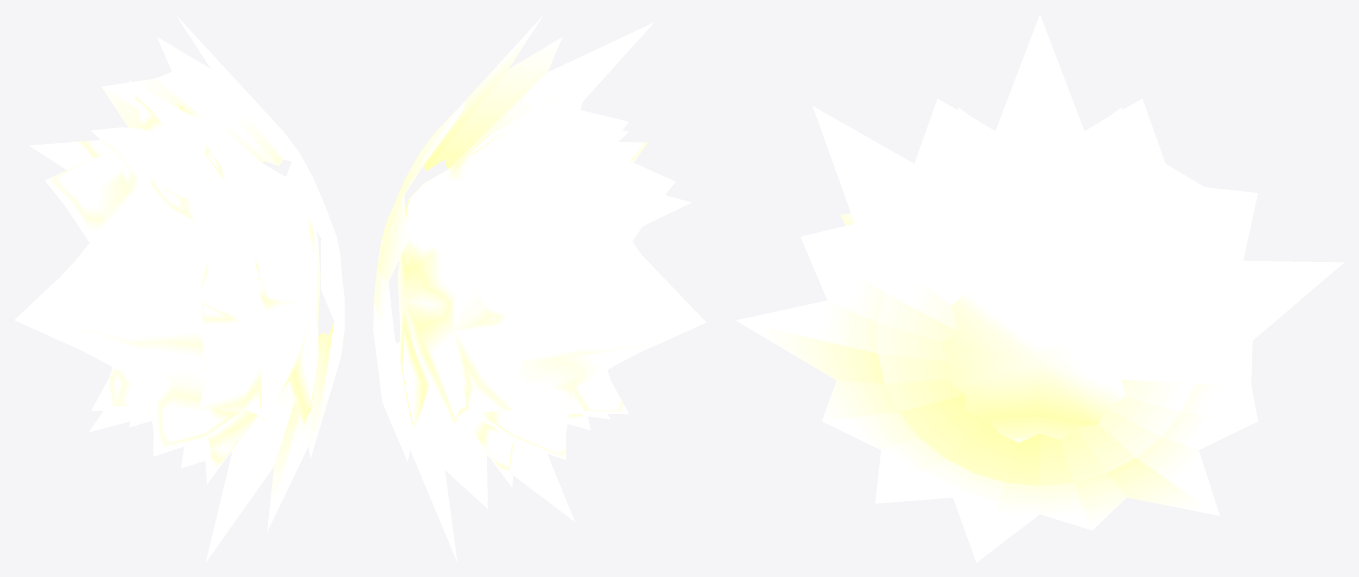
The model's file is attack_hi.fbx.
The picture shows the model from 3 angles, left to right: view 1: azimuth 30°, elevation 25°; view 2: azimuth 150°, elevation 25°; view 3: azimuth 270°, elevation 25°; orthographic projection. The views are drawn at different scales.
Visible parts, largest first — view 1: attack_hi; view 2: attack_hi; view 3: attack_hi.
Boxes of the visible parts, x1,y1,x2,y2 form: attack_hi: (14,14,344,561); attack_hi: (373,15,706,561); attack_hi: (736,14,1343,562).
Bounding box in the file's own units: 277 × 468 × 471.
